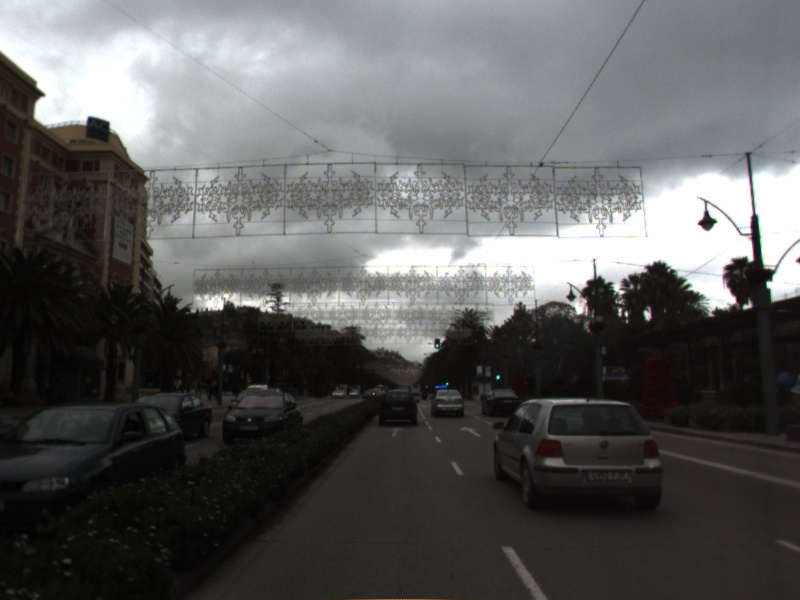STRAIGHT: (457, 424, 484, 439), (385, 425, 407, 439)
